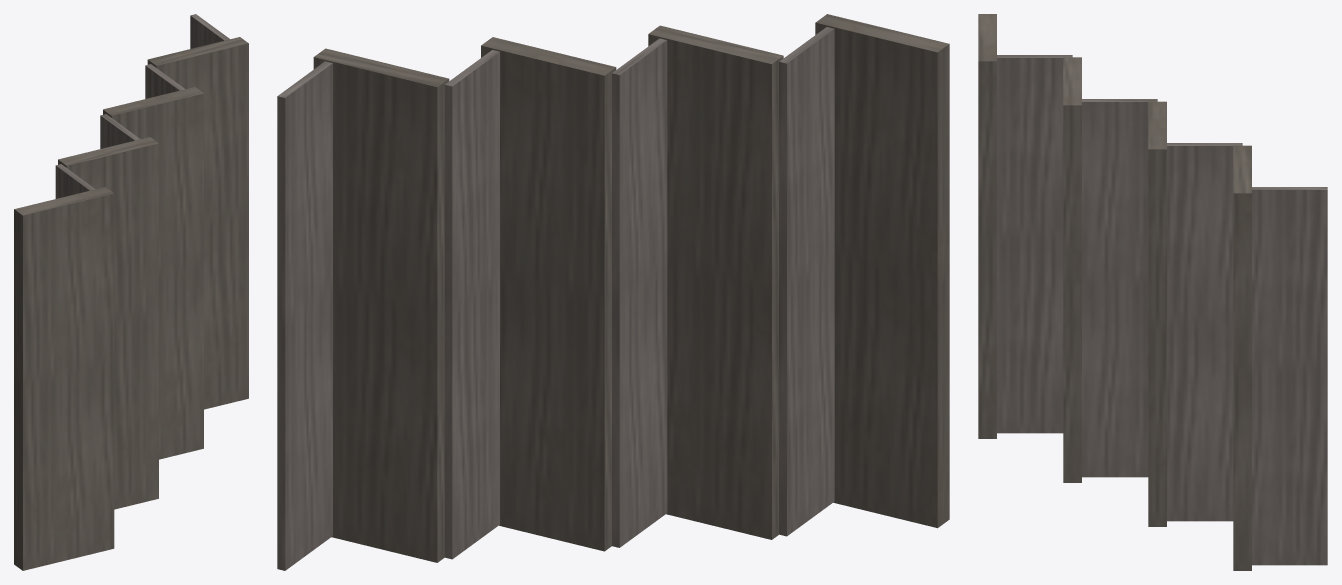
3 views of the same model, side by side, from view 1: azimuth 30°, elevation 25°; view 2: azimuth 150°, elevation 25°; view 3: azimuth 270°, elevation 25° (orthographic). The views are drawn at different scales.
Size of the model in its own units: 1.02 by 1 by 0.839.
Materials: 1 (1 with a texture image).
